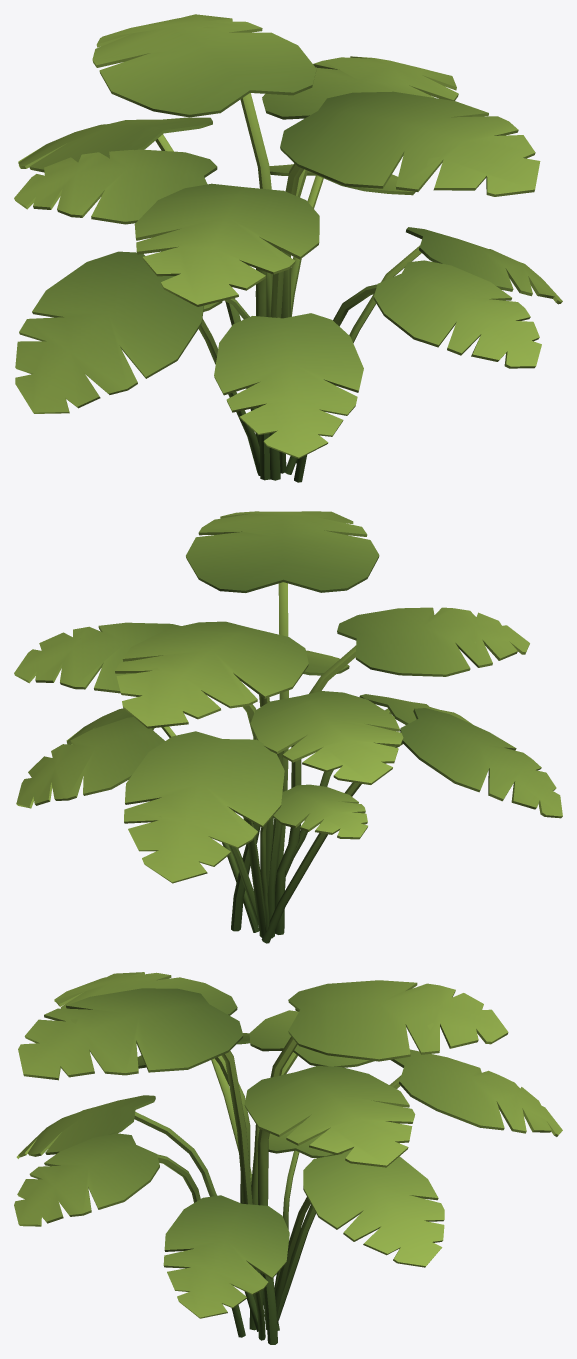
The model's file is Plant_05.fbx.
3 renders of one model, top to bottom at view 1: azimuth 30°, elevation 25°; view 2: azimuth 150°, elevation 25°; view 3: azimuth 270°, elevation 25°, orthographic. The views are drawn at different scales.
Parts seen in each view (by area): view 1: Plant_05_LOD0; view 2: Plant_05_LOD0; view 3: Plant_05_LOD0.
Part boxes in pixels (<box>): Plant_05_LOD0: <box>14,14,562,482</box>; Plant_05_LOD0: <box>14,511,562,943</box>; Plant_05_LOD0: <box>14,972,562,1344</box>.
Size of what is drawn, in the model's own units: 1.54 by 1.07 by 1.56.
